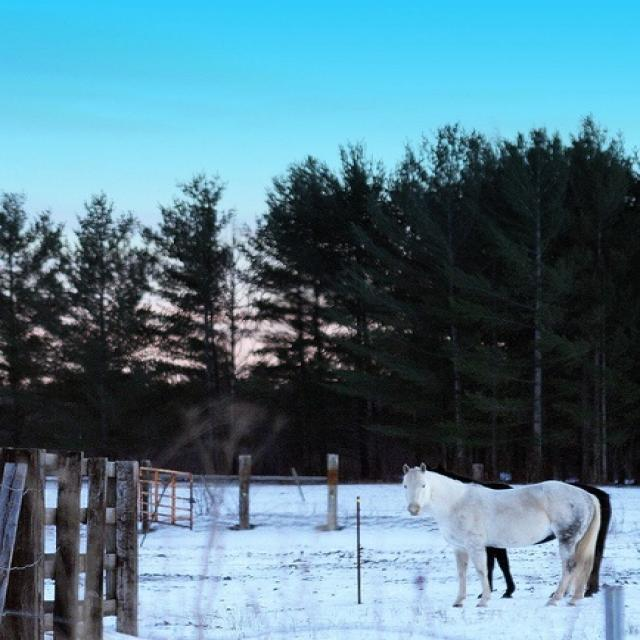horse: (398, 462, 603, 608), (422, 462, 610, 595)
